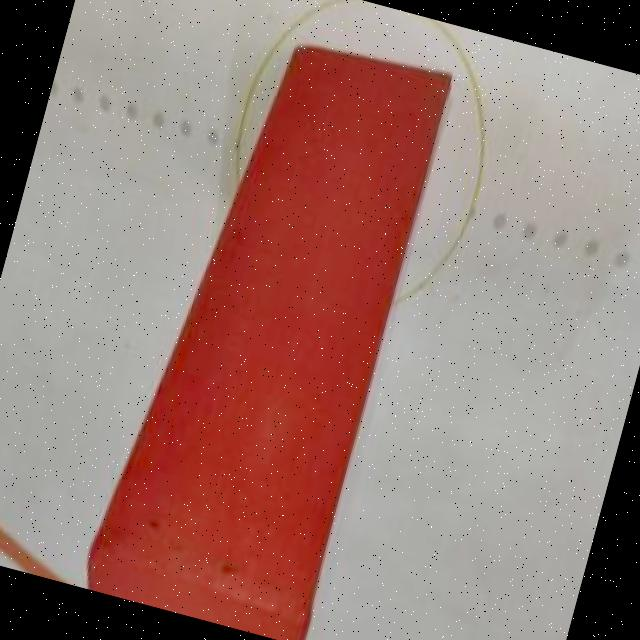redbox: (79, 22, 456, 640)
